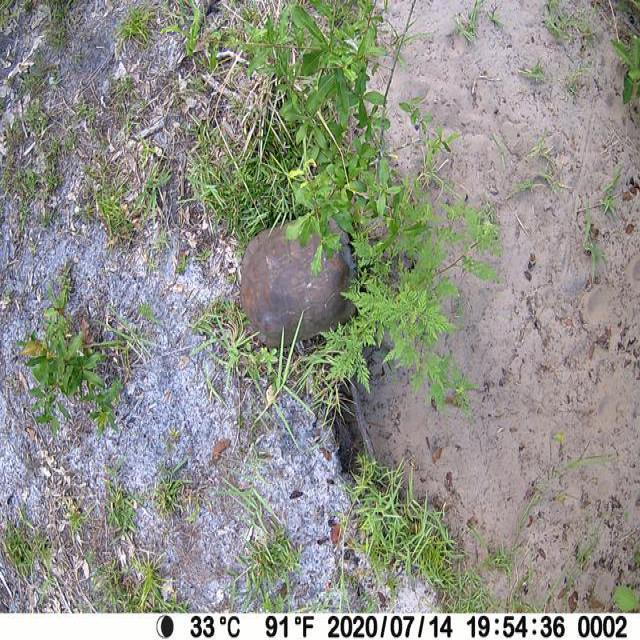tortoise: (234, 208, 361, 346)
